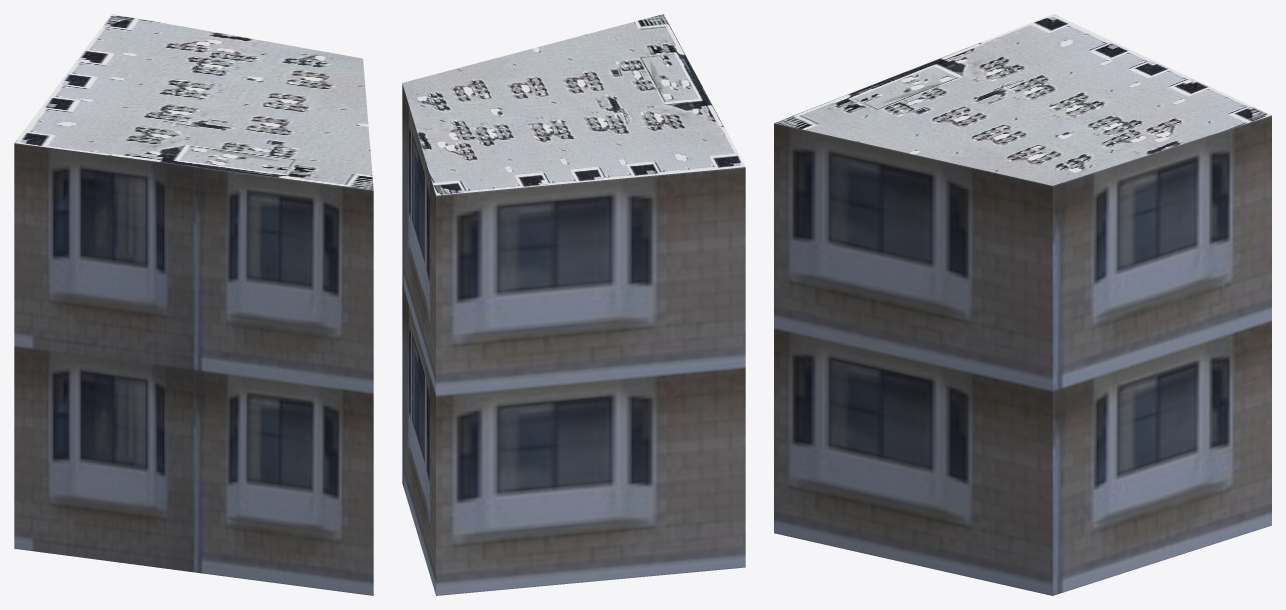
File: ResTex__3572.fbx
3 views of the same model, side by side, from view 1: azimuth 30°, elevation 25°; view 2: azimuth 150°, elevation 25°; view 3: azimuth 270°, elevation 25° (orthographic). The views are drawn at different scales.
Visible parts, largest first — view 1: CityEngineMaterial_3_m, CityEngineMaterial_8_m; view 2: CityEngineMaterial_3_m, CityEngineMaterial_8_m; view 3: CityEngineMaterial_3_m, CityEngineMaterial_8_m.
Part boxes in pixels (x1=…): CityEngineMaterial_3_m: x1=14, y1=143, x2=373, y2=595; CityEngineMaterial_8_m: x1=14, y1=14, x2=373, y2=190; CityEngineMaterial_3_m: x1=402, y1=84, x2=745, y2=595; CityEngineMaterial_8_m: x1=402, y1=14, x2=745, y2=195; CityEngineMaterial_3_m: x1=774, y1=115, x2=1271, y2=595; CityEngineMaterial_8_m: x1=774, y1=14, x2=1271, y2=185.
Bounding box in the file's own units: 5.39 × 6 × 6.6.
2 materials, 2 textured.
